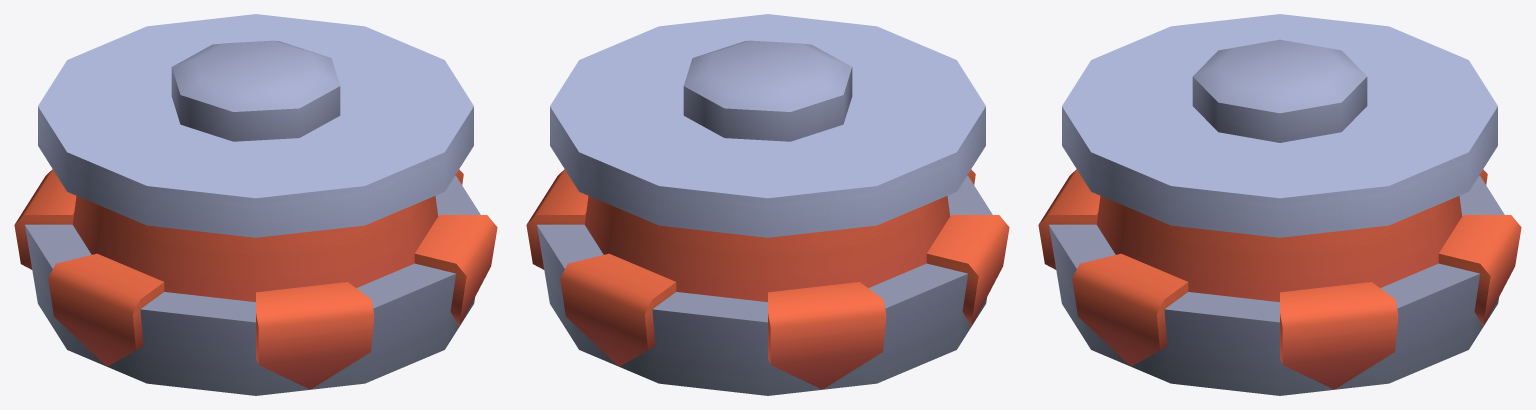
The model's file is kenney-tower-defense-tower-round-middle-a.glb.
3 views of the same model, side by side, from view 1: azimuth 30°, elevation 25°; view 2: azimuth 150°, elevation 25°; view 3: azimuth 270°, elevation 25° (orthographic).
Parts seen in each view (by area): view 1: tower-round-middle-a; view 2: tower-round-middle-a; view 3: tower-round-middle-a.
Part boxes in pixels (x1,y1,x2,y2): tower-round-middle-a: (14, 14, 497, 395); tower-round-middle-a: (526, 14, 1009, 395); tower-round-middle-a: (1038, 14, 1521, 395).
Bounding box in the file's own units: 1.11 × 0.6 × 1.11.
1 material, 1 textured.
